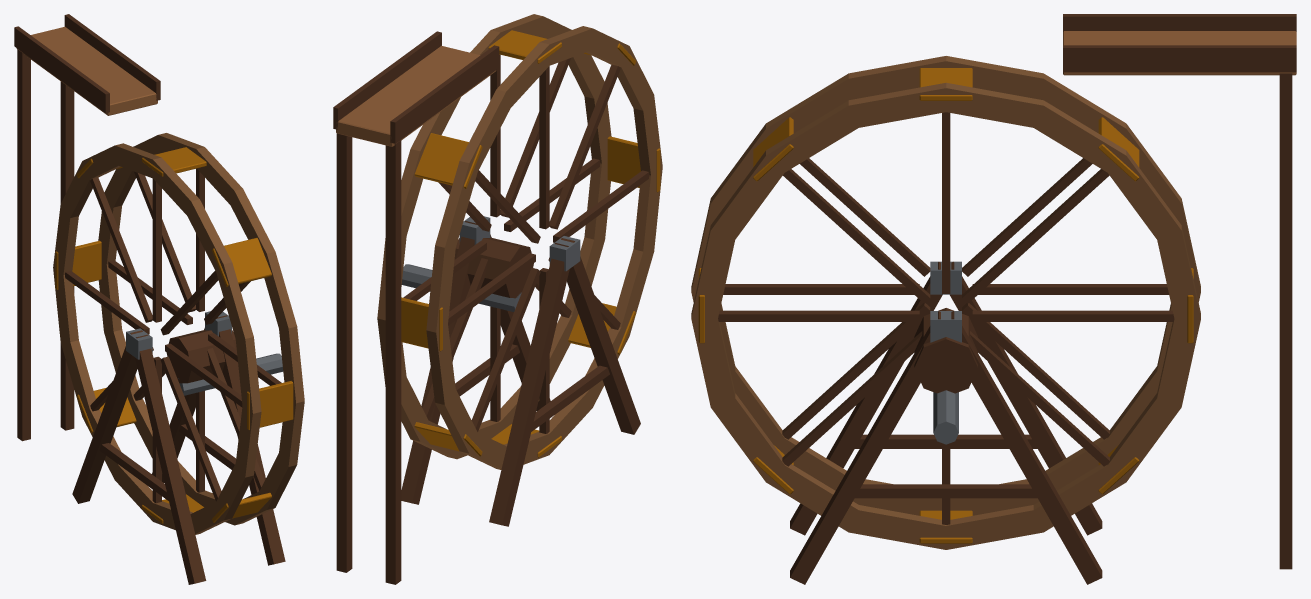
Rendered from kincir_air_v001.glb.
3 views of the same model, side by side, from view 1: azimuth 30°, elevation 25°; view 2: azimuth 150°, elevation 25°; view 3: azimuth 270°, elevation 25° (orthographic). The views are drawn at different scales.
Visible parts, largest first — view 1: Roda_Kincir, Kincir_Rangka; view 2: Roda_Kincir, Kincir_Rangka; view 3: Roda_Kincir, Kincir_Rangka.
Boxes of the visible parts, <box> form: Roda_Kincir: <box>53,133,304,534</box>; Kincir_Rangka: <box>14,14,285,584</box>; Roda_Kincir: <box>377,14,662,469</box>; Kincir_Rangka: <box>333,31,640,584</box>; Roda_Kincir: <box>691,56,1200,549</box>; Kincir_Rangka: <box>790,14,1296,584</box>.
Size of the model in its own units: 2.05 by 5.46 by 5.7.
